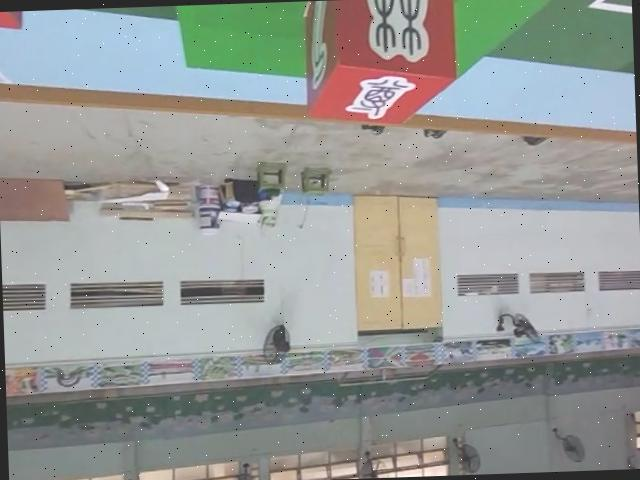R2 Fake: (302, 0, 461, 129)
